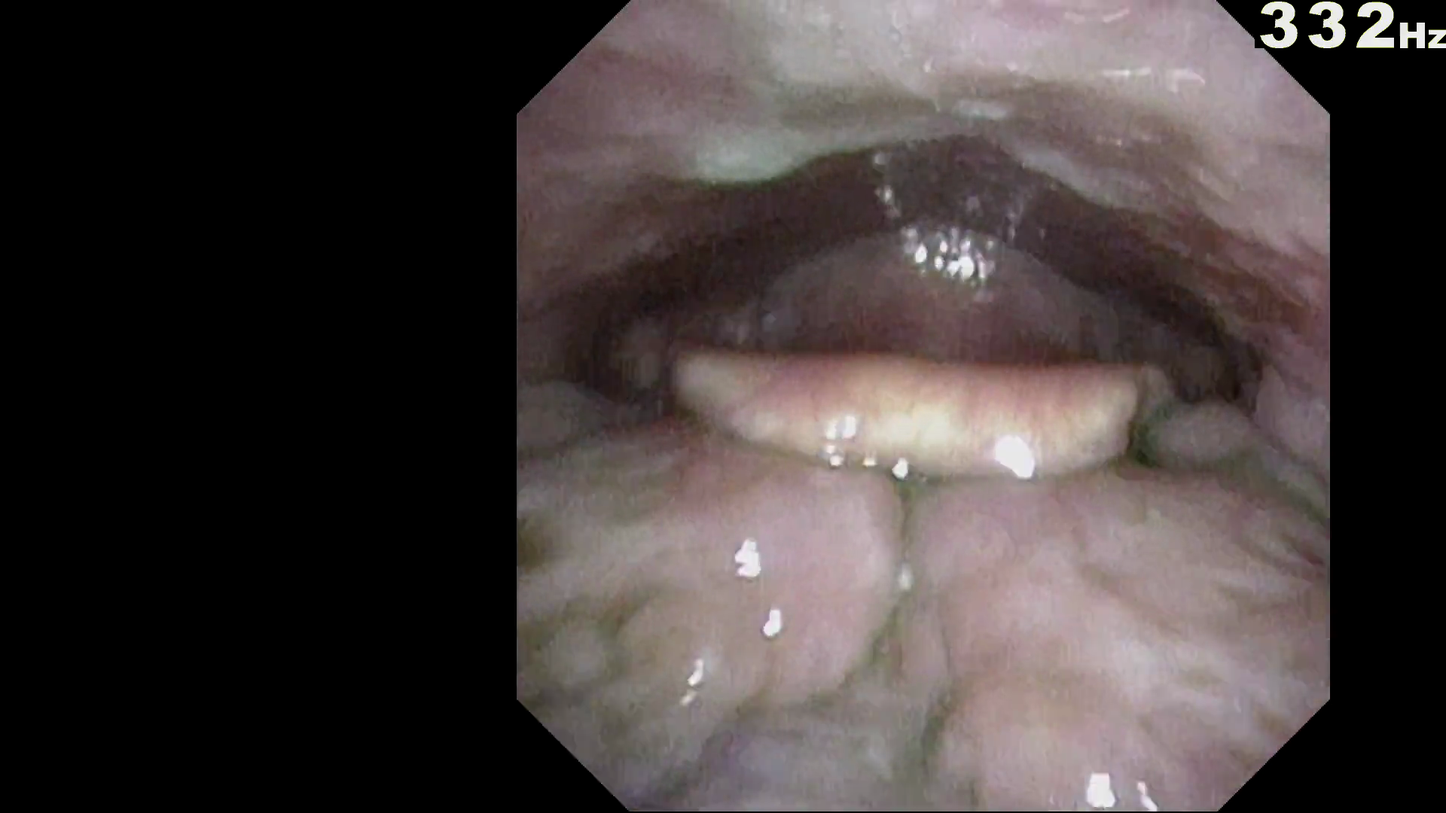epiglottis: (611, 322, 1224, 482)
